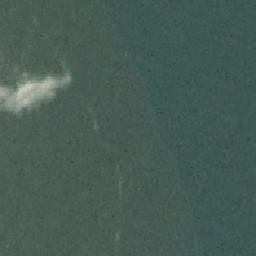cloud: (1, 70, 71, 115)
